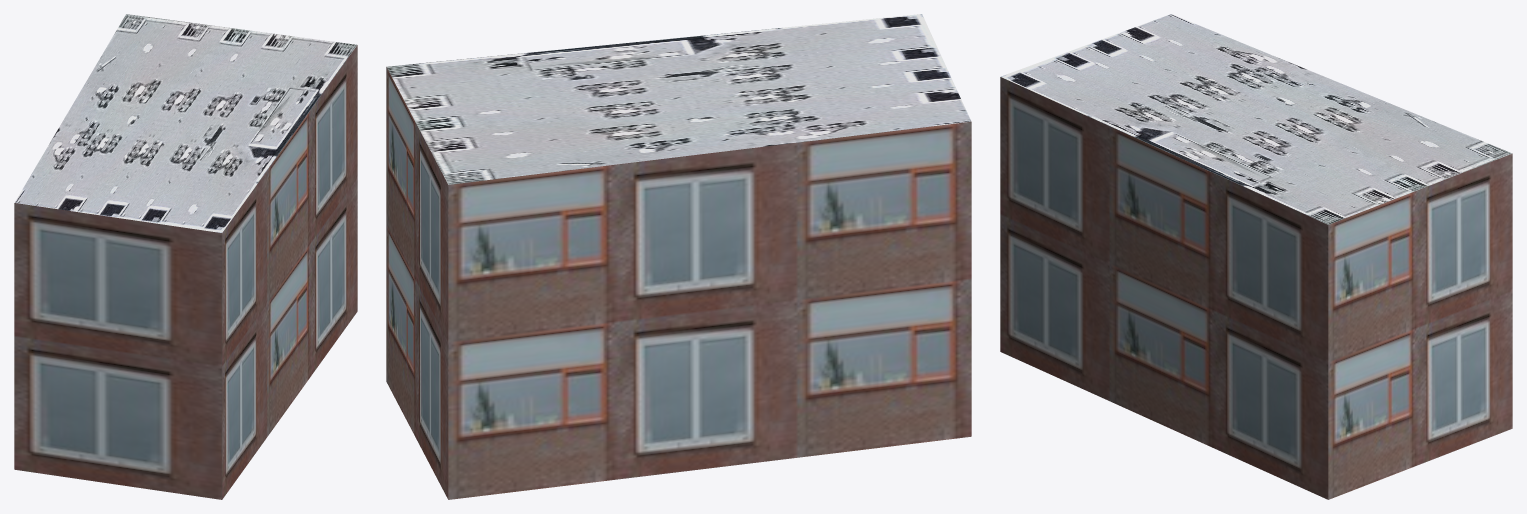
Rendered from ResTex__1271.fbx.
The picture shows the model from 3 angles, left to right: view 1: azimuth 30°, elevation 25°; view 2: azimuth 150°, elevation 25°; view 3: azimuth 270°, elevation 25°; orthographic projection. The views are drawn at different scales.
Parts seen in each view (by area): view 1: CityEngineMaterial_19_m, CityEngineMaterial_15_m; view 2: CityEngineMaterial_19_m, CityEngineMaterial_15_m; view 3: CityEngineMaterial_19_m, CityEngineMaterial_15_m.
Part boxes in pixels (x1,y1,x2,y2): CityEngineMaterial_19_m: [14, 45, 357, 499]; CityEngineMaterial_15_m: [14, 14, 356, 232]; CityEngineMaterial_19_m: [386, 67, 971, 499]; CityEngineMaterial_15_m: [387, 14, 971, 184]; CityEngineMaterial_19_m: [1000, 77, 1512, 499]; CityEngineMaterial_15_m: [1000, 14, 1512, 224].
Bounding box in the file's own units: 9.87 × 6 × 10.13.
Materials: 2 (2 with a texture image).
